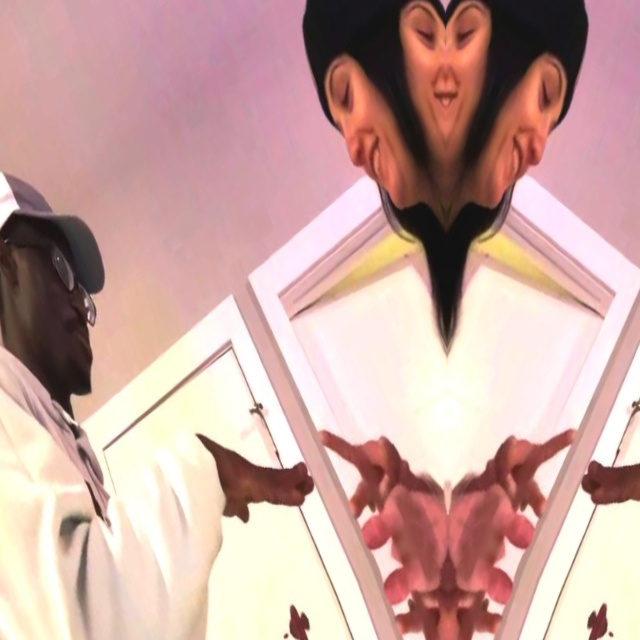Paper: (577, 383, 640, 549)
Scissors: (481, 383, 581, 530)
